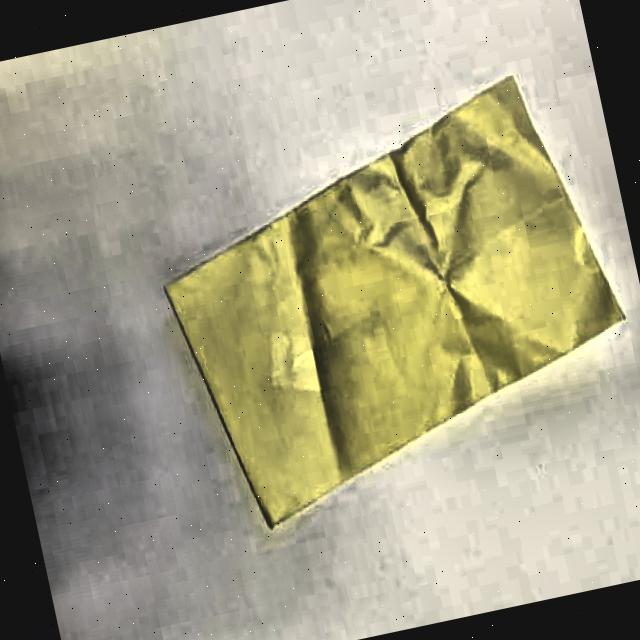paper: (143, 62, 640, 538)
